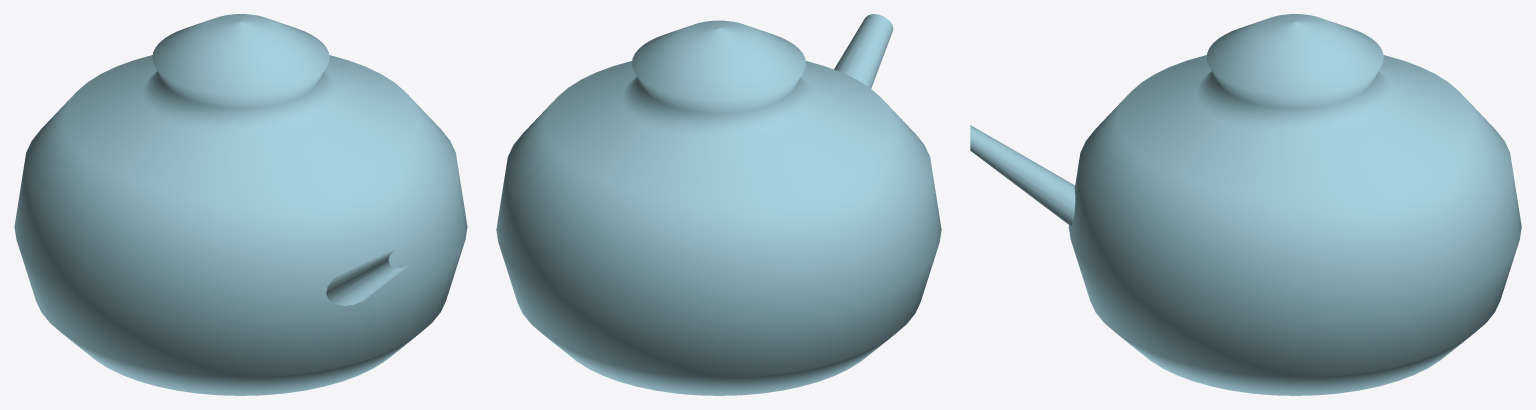
3 renders of one model, left to right at view 1: azimuth 30°, elevation 25°; view 2: azimuth 150°, elevation 25°; view 3: azimuth 270°, elevation 25°, orthographic.
Visible parts, largest first — view 1: kettle; view 2: kettle; view 3: kettle.
Part boxes in pixels (bbox=[...]): kettle: bbox=[14, 14, 467, 395]; kettle: bbox=[496, 14, 941, 395]; kettle: bbox=[970, 14, 1521, 395].
Size of the model in its own units: 0.92 by 0.68 by 1.12.
